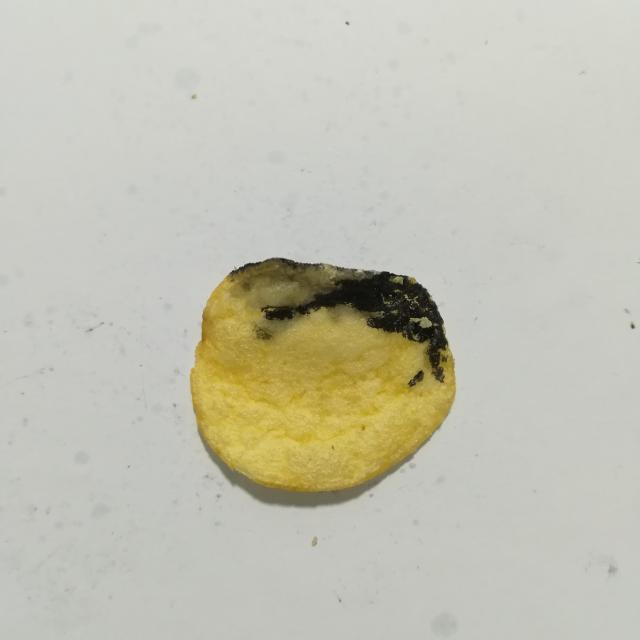chip: (190, 258, 455, 491)
damaged: (262, 272, 448, 382), (408, 370, 424, 387)
semi-damaged: (227, 258, 381, 341), (325, 306, 366, 324)
